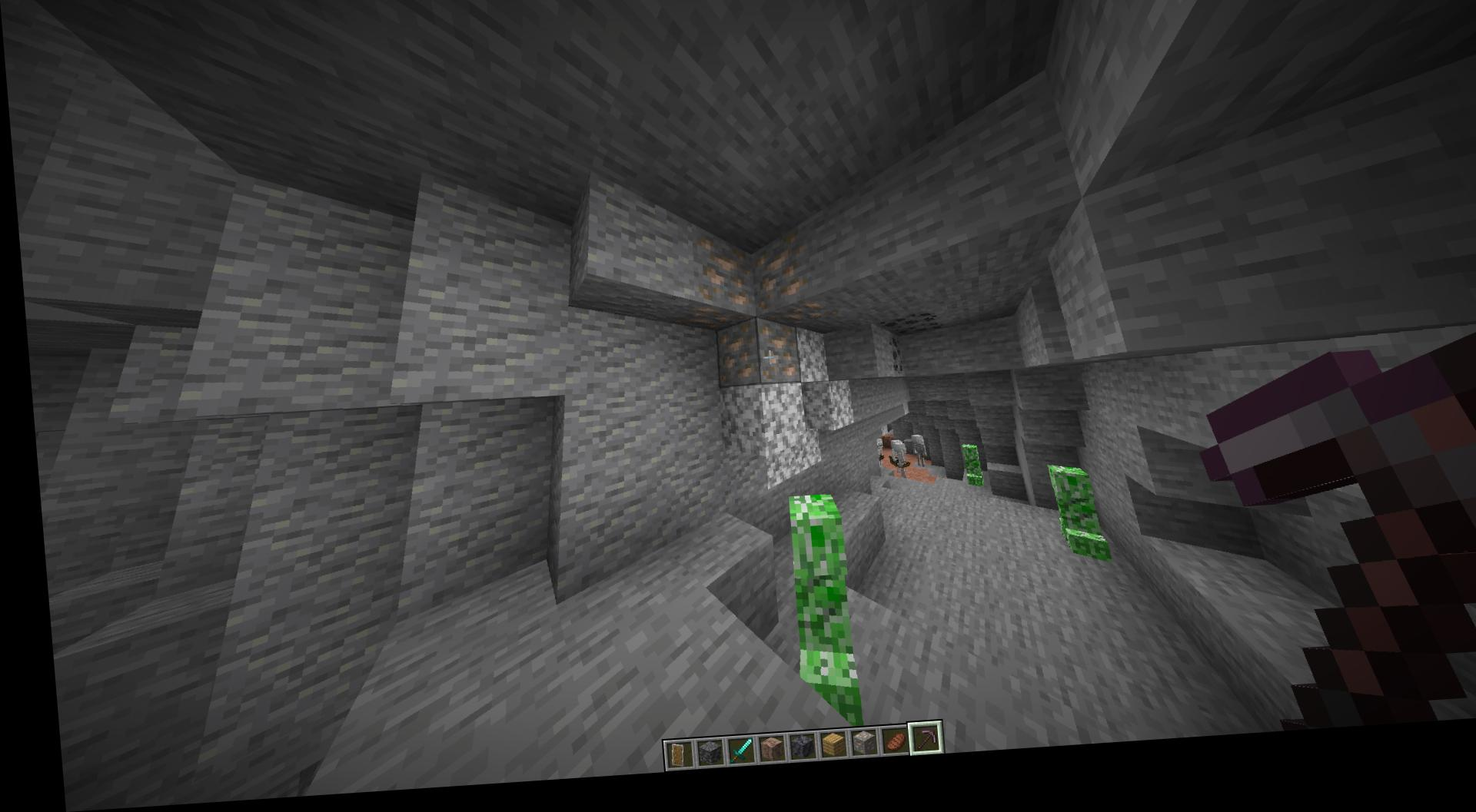iron ore: (742, 243, 813, 336), (677, 246, 746, 331), (751, 326, 801, 399), (711, 330, 756, 393)
